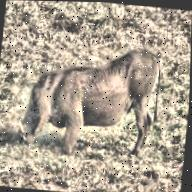boar: (0, 21, 181, 159)
